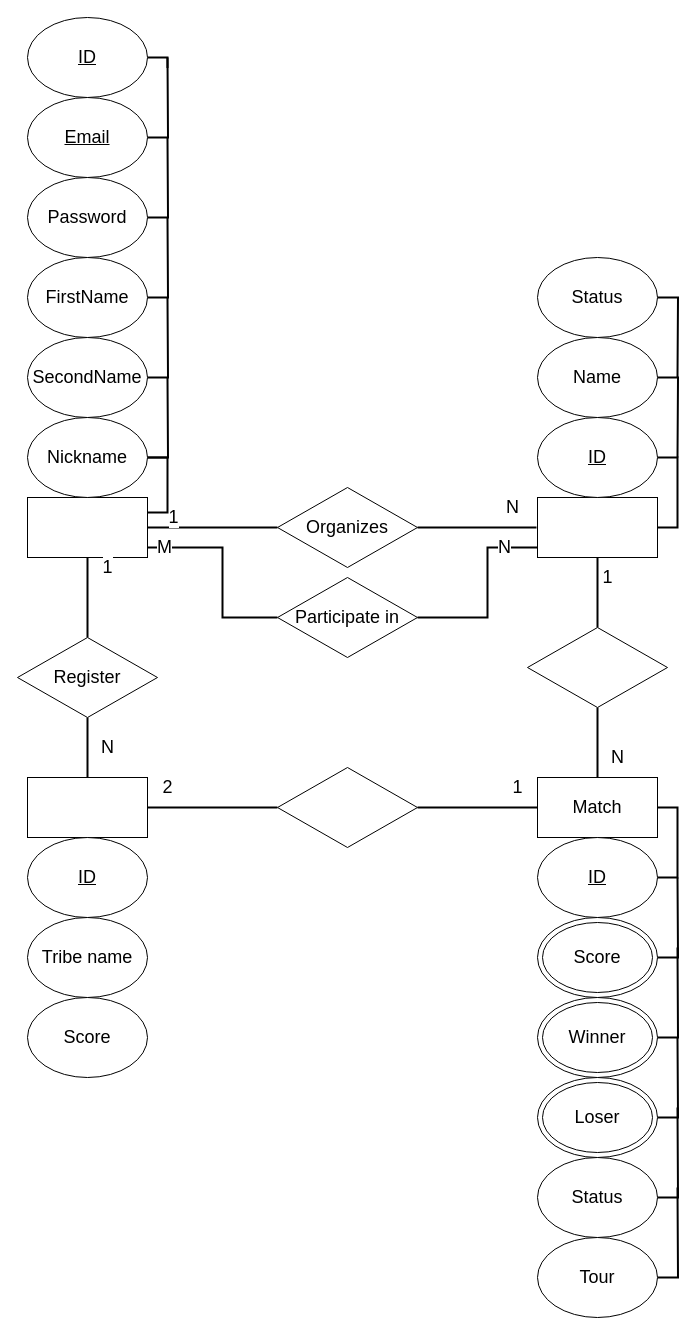
Some shapes in this 697 by 1335 pixel diagram are drawn without their labels. Each missing label, with the box of its shape:
Has: (526, 626, 668, 708)
Match participant: (26, 776, 148, 838)
Play in: (276, 766, 418, 848)
Tournament: (536, 496, 658, 558)
User: (26, 496, 148, 558)
